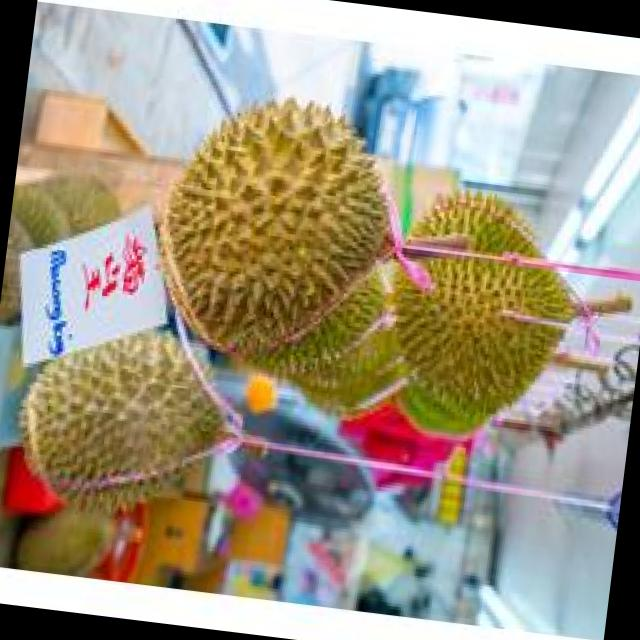fruit: (113, 54, 434, 422), (354, 185, 610, 445), (0, 296, 246, 525)
